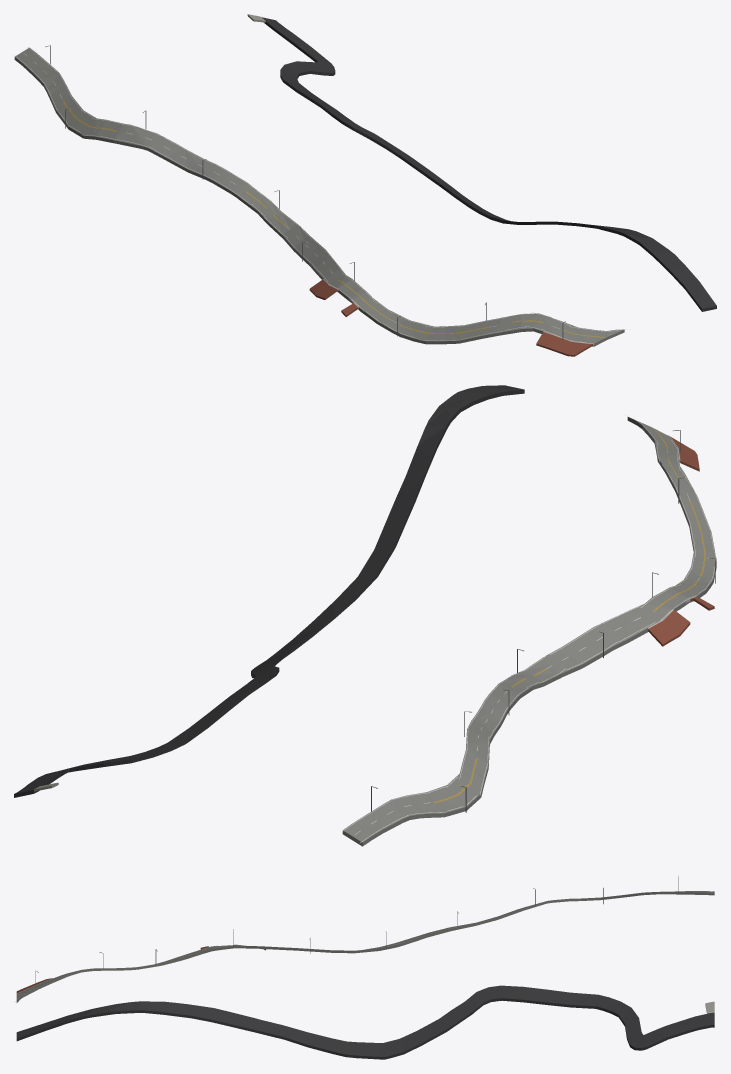
The picture shows the model from 3 angles, top to bottom: view 1: azimuth 30°, elevation 25°; view 2: azimuth 150°, elevation 25°; view 3: azimuth 270°, elevation 25°; orthographic projection. The views are drawn at different scales.
Bounding box in the file's own units: 130 × 36.19 × 294.
